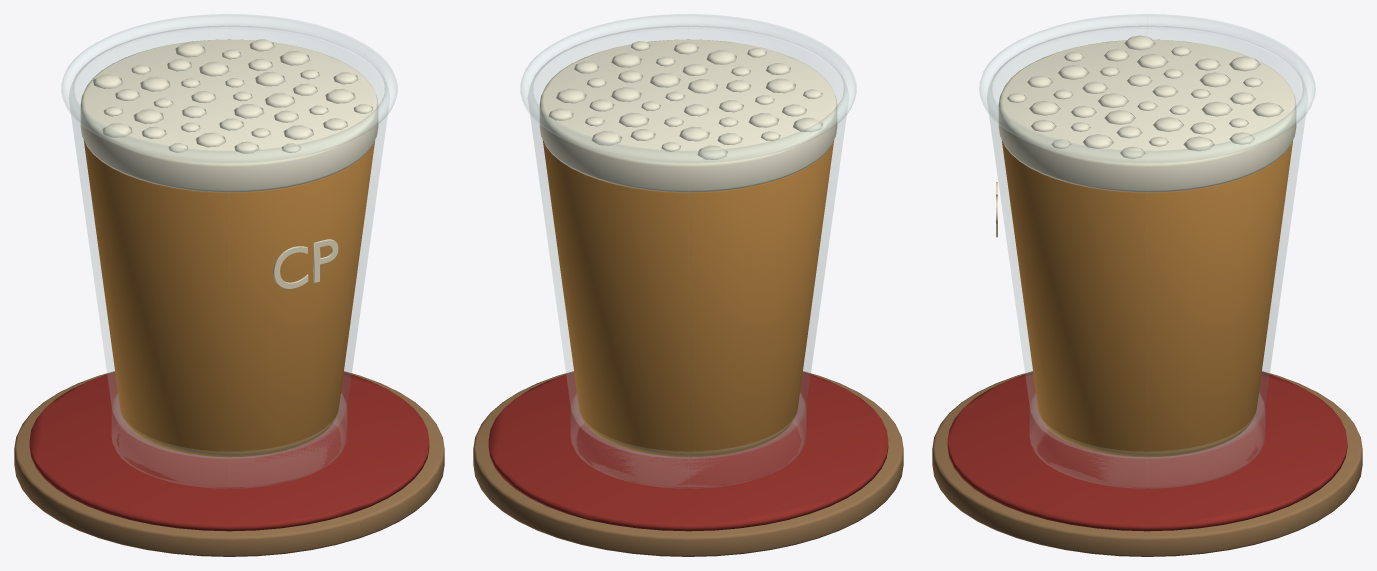
The model's file is pub-pint.glb.
3 renders of one model, left to right at view 1: azimuth 30°, elevation 25°; view 2: azimuth 150°, elevation 25°; view 3: azimuth 270°, elevation 25°, orthographic.
Parts seen in each view (by area): view 1: pub-pint; view 2: pub-pint; view 3: pub-pint.
Part boxes in pixels (x1,y1,x2,y2): pub-pint: [14, 14, 444, 556]; pub-pint: [473, 14, 903, 556]; pub-pint: [932, 14, 1362, 556].
Bounding box in the file's own units: 0.46 × 0.4527 × 0.46.
